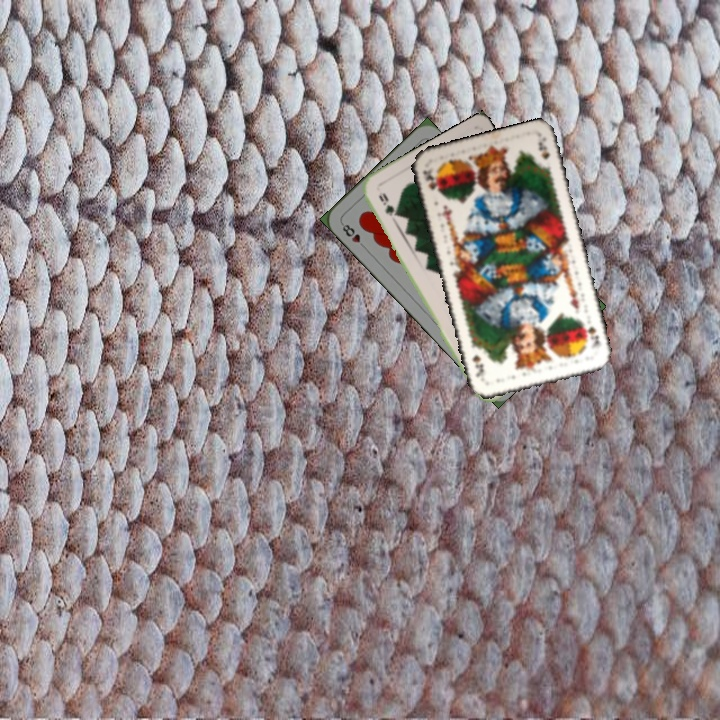G9: (374, 189, 400, 220)
H8: (337, 219, 369, 252)
SK: (579, 317, 602, 349), (419, 165, 442, 196)
